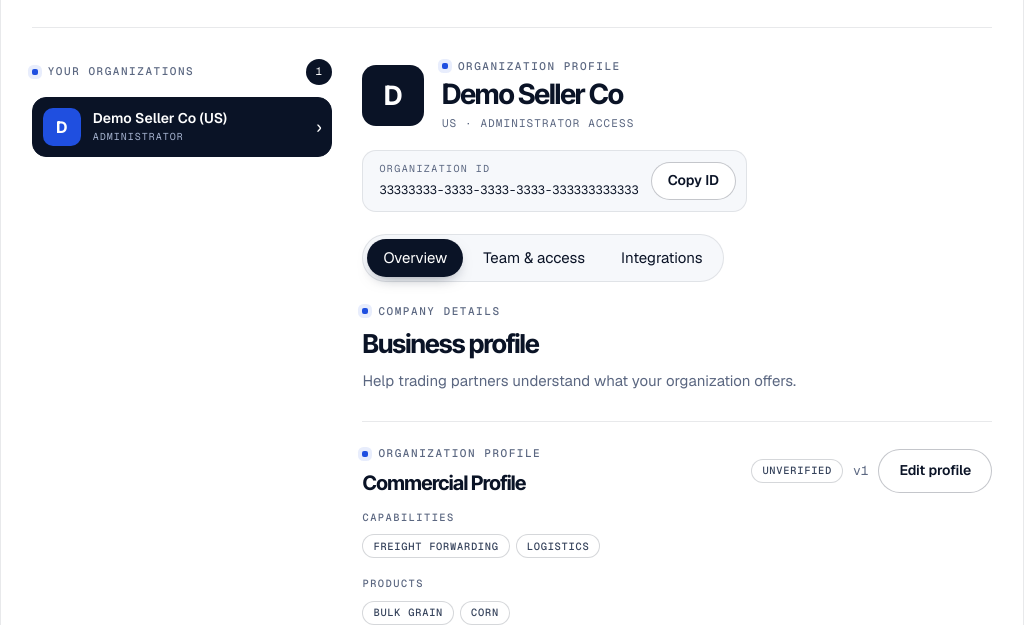
OrganizationsPanel › allows admin to cancel editing without saving
Click the button "Edit profile" at (935, 471), box x1=878 y1=449 x2=992 y2=493
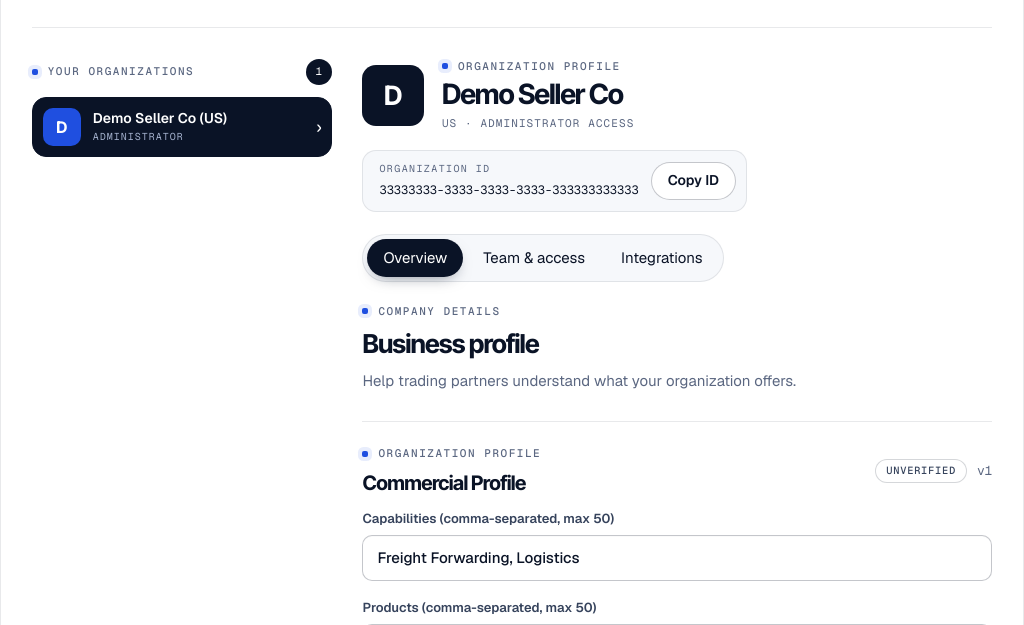
Replace the text in the field labelled "Capabilities (comma-separated, max 50)" with "Something Else" at (677, 558), box x1=362 y1=535 x2=992 y2=581
(page scrolled)
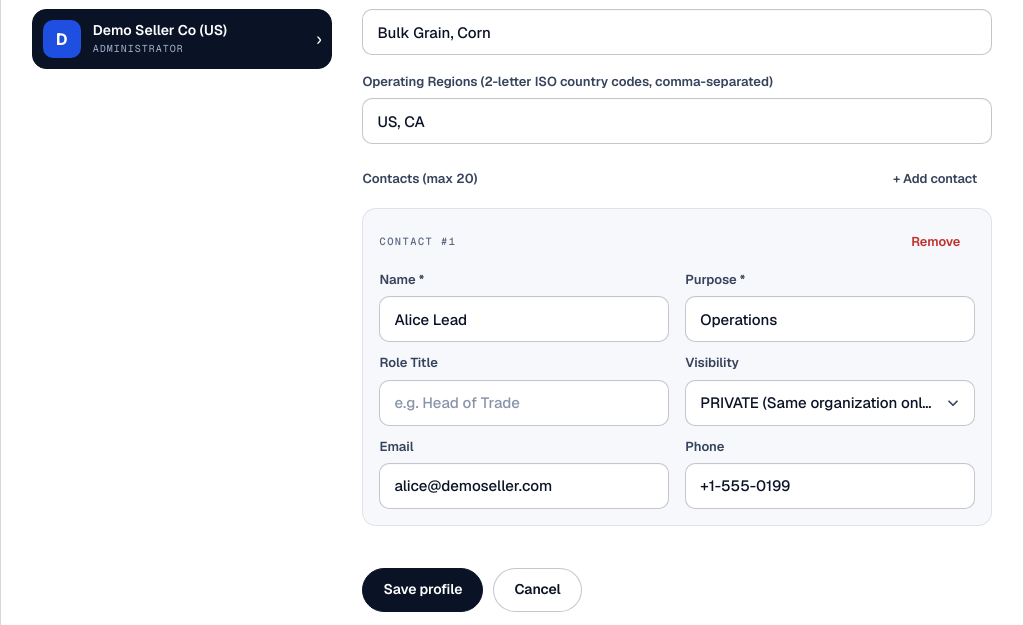
Click the button "Cancel" at (538, 590), box x1=493 y1=568 x2=582 y2=612
(page scrolled)
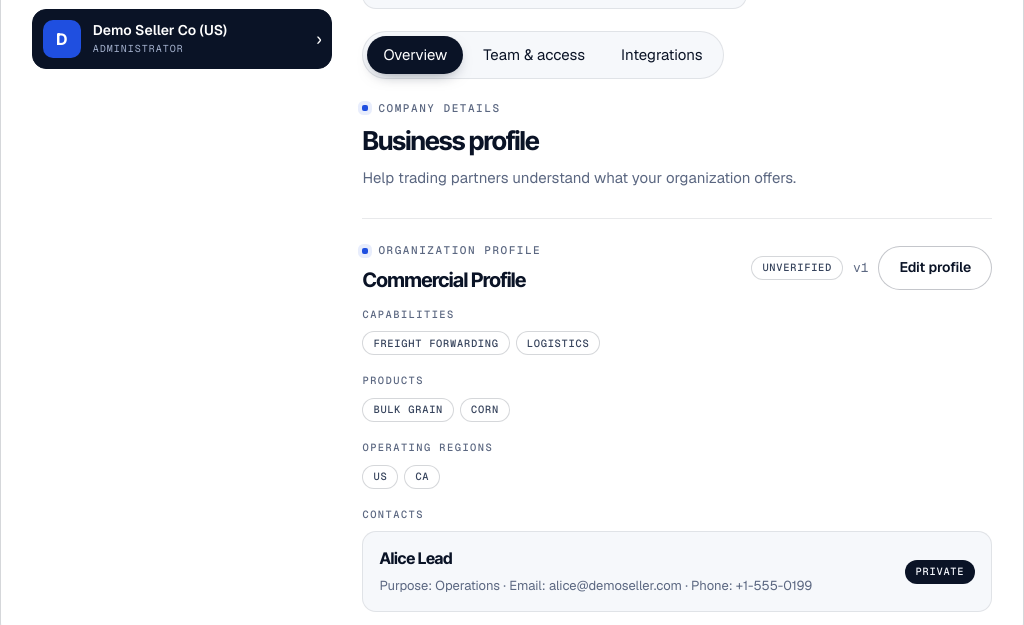
Now the button "Save profile" is gone
Now the text "Freight Forwarding" is shown, box x1=362 y1=331 x2=510 y2=355
